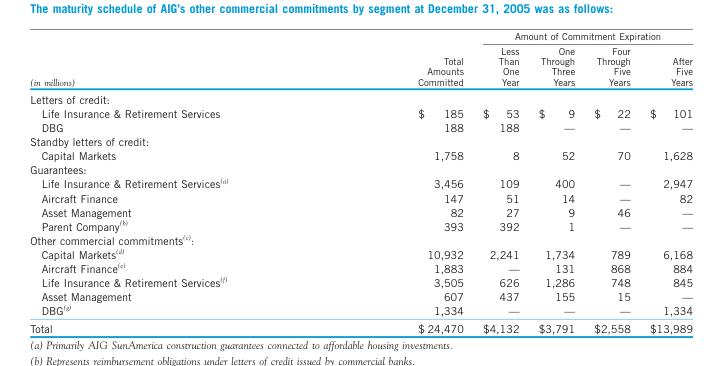table: (29, 29, 692, 334)
table column: (29, 29, 322, 334), (322, 29, 472, 334), (472, 29, 528, 334), (583, 29, 639, 334), (528, 29, 583, 334), (639, 29, 692, 334)
table column header: (29, 29, 692, 89)
table projected row header: (29, 89, 692, 106), (29, 134, 692, 148), (29, 232, 692, 246), (29, 162, 692, 175)
table row: (29, 42, 692, 89), (29, 89, 692, 106), (29, 302, 692, 319), (29, 175, 692, 190), (29, 319, 692, 334), (29, 106, 692, 120), (29, 120, 692, 134), (29, 134, 692, 148), (29, 148, 692, 162), (29, 190, 692, 204), (29, 204, 692, 218), (29, 218, 692, 232), (29, 232, 692, 246), (29, 246, 692, 260), (29, 260, 692, 274), (29, 274, 692, 288), (29, 288, 692, 302), (29, 29, 692, 42), (29, 162, 692, 175)
table spanning cell: (29, 29, 322, 89), (322, 29, 472, 89), (472, 29, 692, 42)
